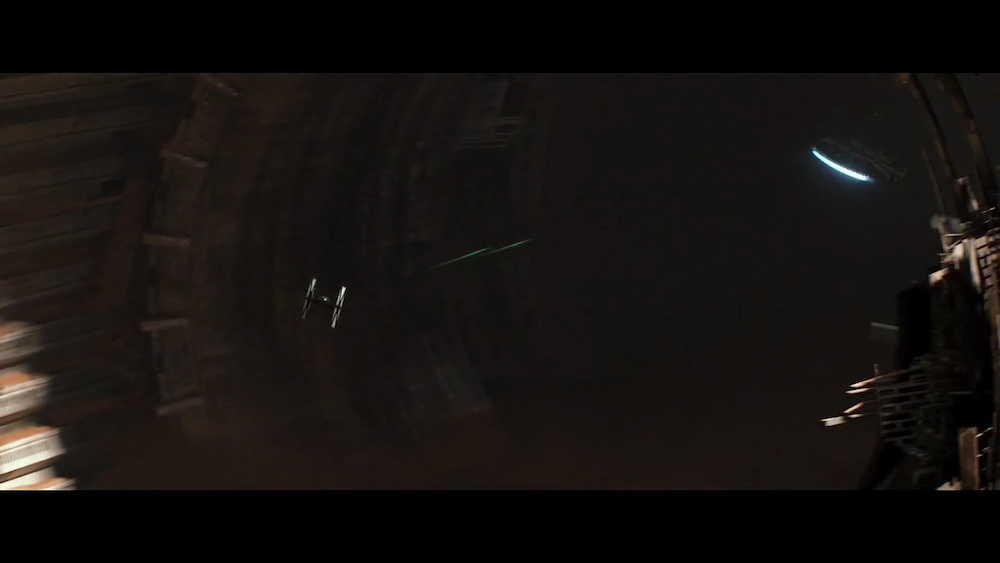Millennium Falcon: (807, 129, 918, 191)
Tie Fighter: (297, 276, 351, 332)
